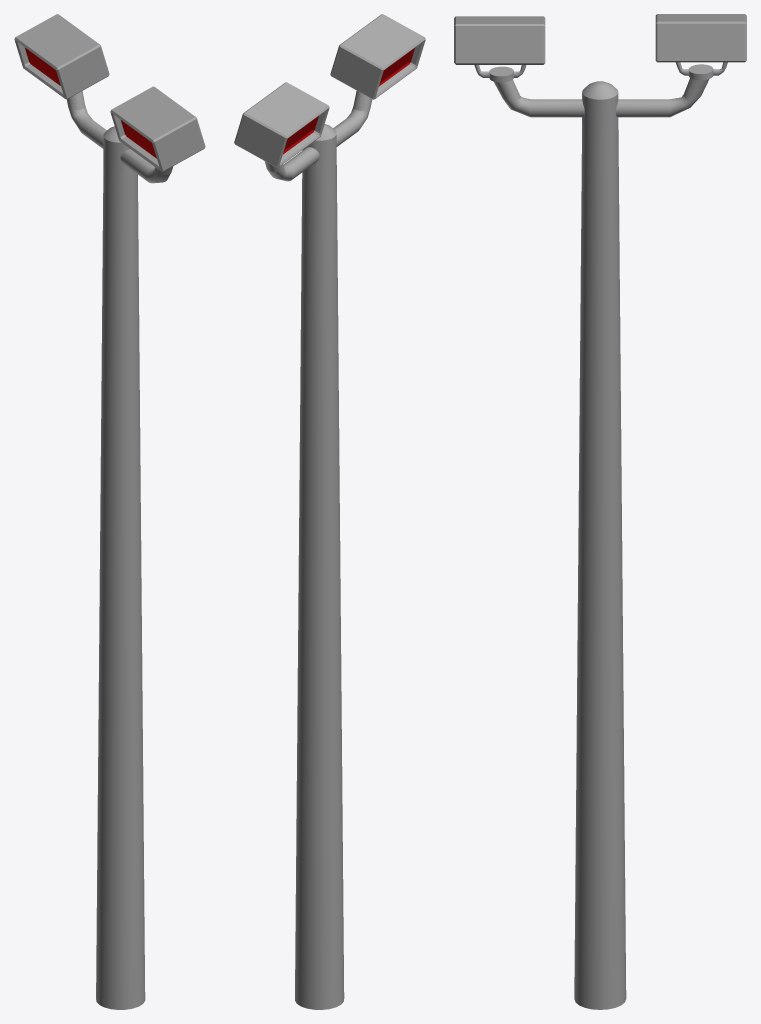
The model's file is StadiumLight.fbx.
The picture shows the model from 3 angles, left to right: view 1: azimuth 30°, elevation 25°; view 2: azimuth 150°, elevation 25°; view 3: azimuth 270°, elevation 25°; orthographic projection. The views are drawn at different scales.
Parts seen in each view (by area): view 1: pCylinder5; view 2: pCylinder5; view 3: pCylinder5.
Boxes of the visible parts, bbox=[...] form: pCylinder5: bbox=[14, 14, 205, 1009]; pCylinder5: bbox=[234, 14, 425, 1009]; pCylinder5: bbox=[454, 14, 746, 1009].
Size of the model in its own units: 1.47 by 22.28 by 6.03.
